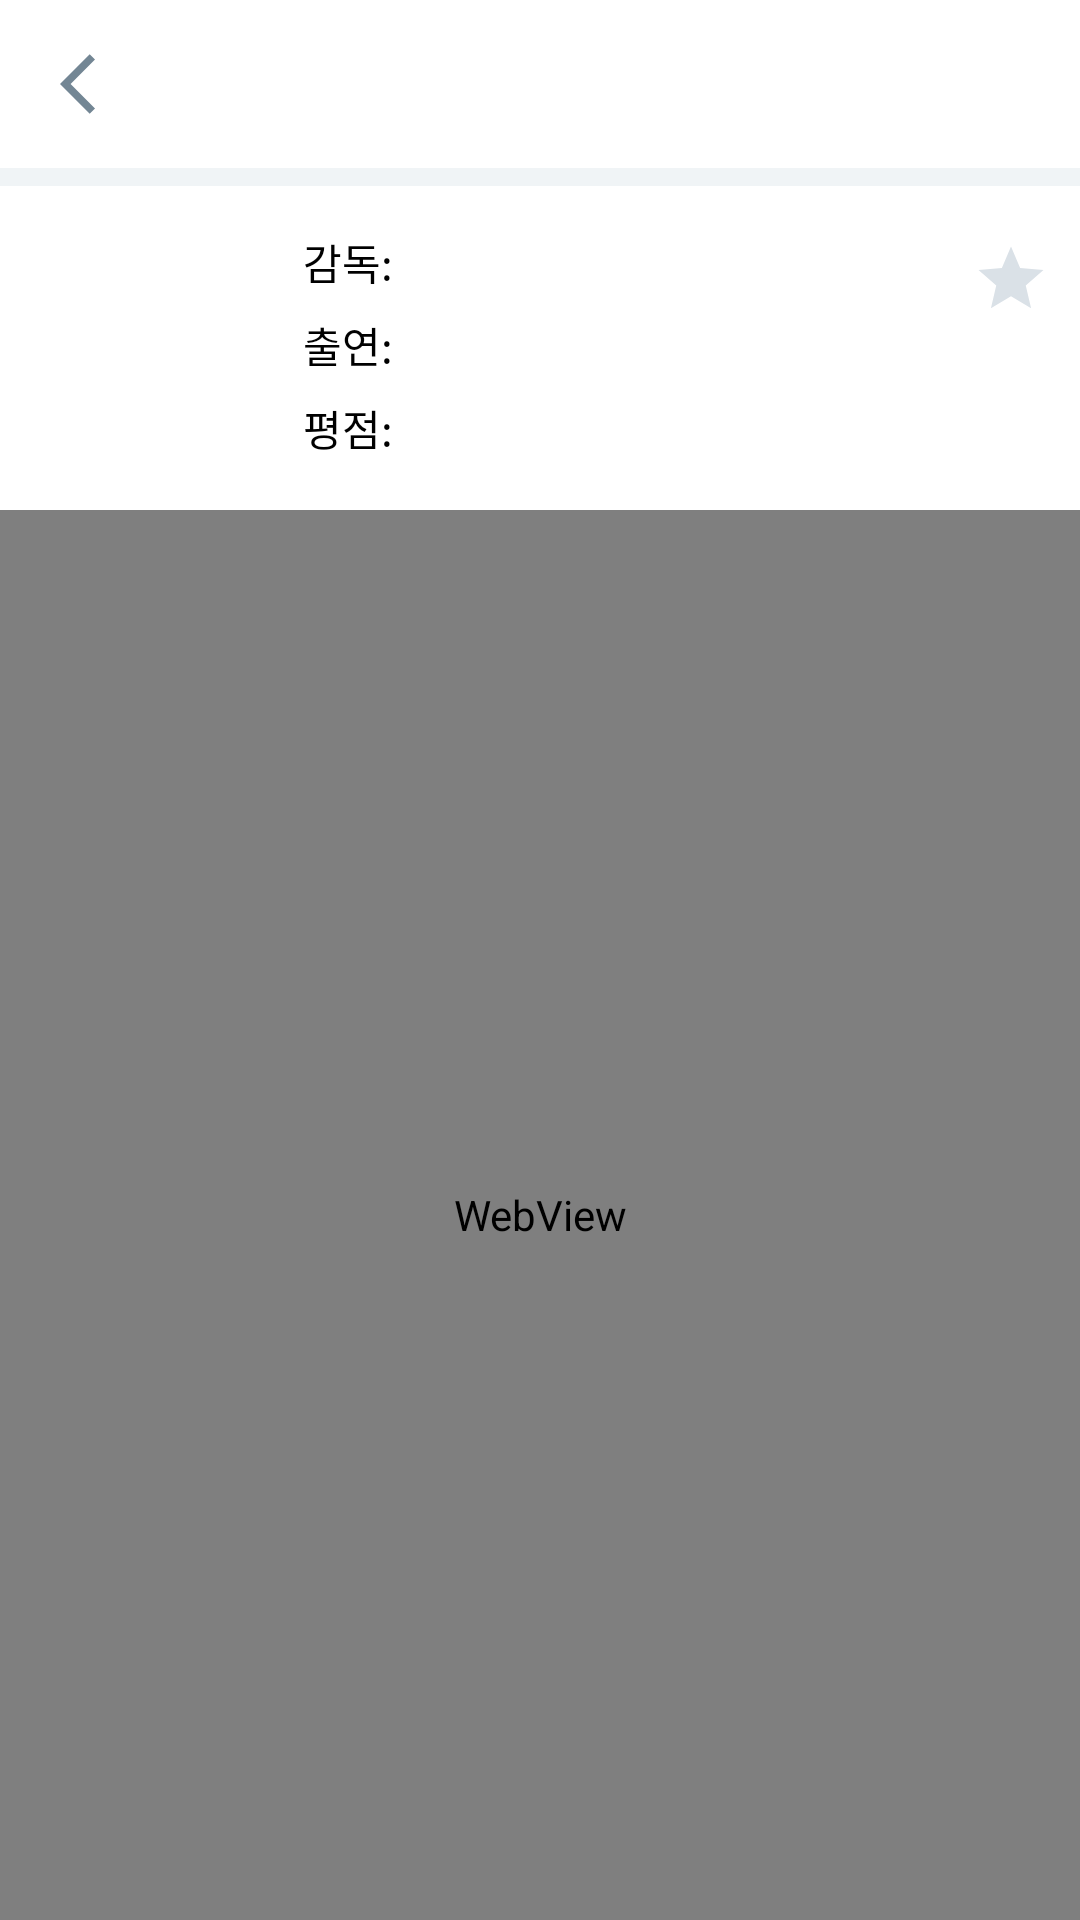

Screen size 1080 × 1920. Icon name, then its center in pixels as (x=x, y=y):
arrow back: (x=77, y=84)
star: (x=1011, y=278)
